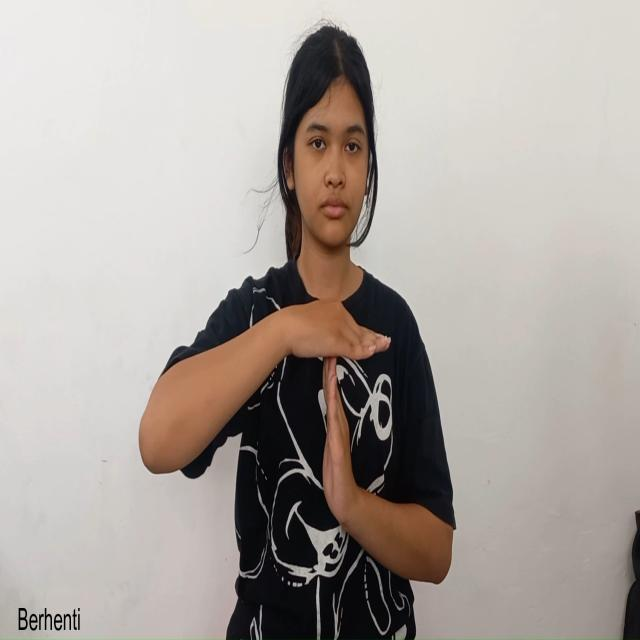Berhenti -BISINDO-: (263, 293, 402, 562)
